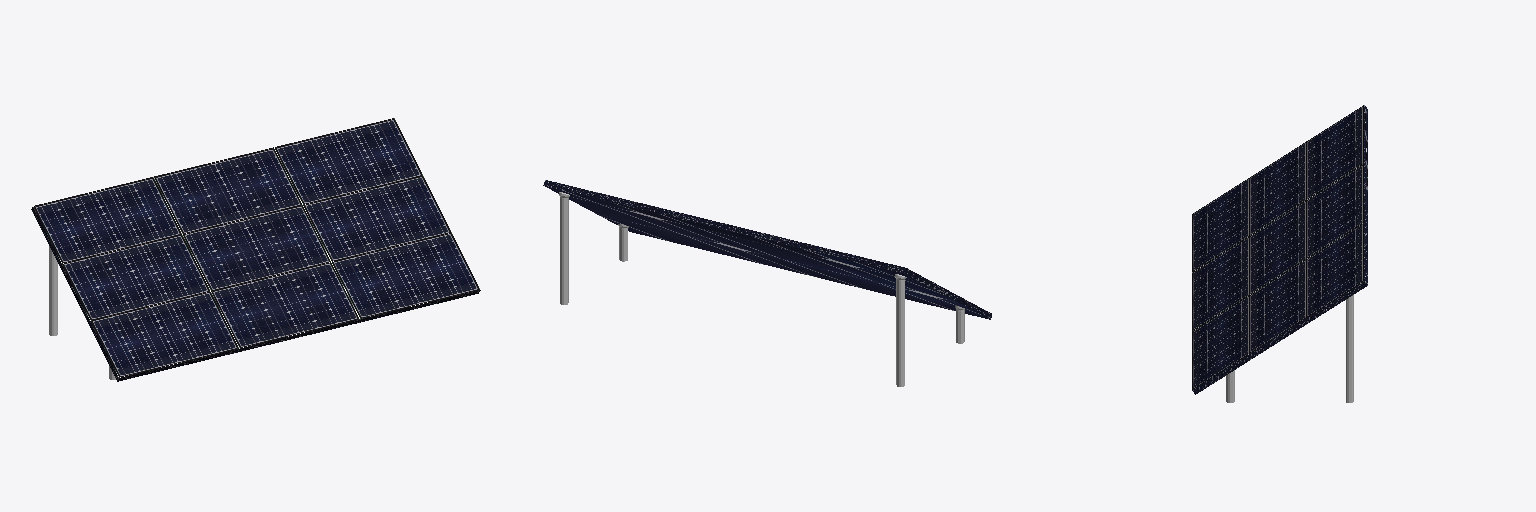
3 renders of one model, left to right at view 1: azimuth 30°, elevation 25°; view 2: azimuth 150°, elevation 25°; view 3: azimuth 270°, elevation 25°, orthographic.
Parts seen in each view (by area): view 1: Cube_Cube.001, Cylinder.002_Cylinder.003; view 2: Cube_Cube.001, Cylinder.002_Cylinder.003, Cylinder.001_Cylinder.002; view 3: Cube_Cube.001, Cylinder.001_Cylinder.002.
Boxes of the visible parts, x1=… form: Cube_Cube.001: x1=31, y1=118, x2=480, y2=381; Cylinder.002_Cylinder.003: x1=49, y1=246, x2=57, y2=335; Cube_Cube.001: x1=543, y1=180, x2=991, y2=319; Cylinder.002_Cylinder.003: x1=896, y1=279, x2=904, y2=386; Cylinder.001_Cylinder.002: x1=560, y1=197, x2=568, y2=304; Cube_Cube.001: x1=1192, y1=105, x2=1367, y2=394; Cylinder.001_Cylinder.002: x1=1346, y1=295, x2=1353, y2=402.
Bounding box in the file's own units: 3.96 × 1.32 × 1.67.
2 materials, 1 textured.